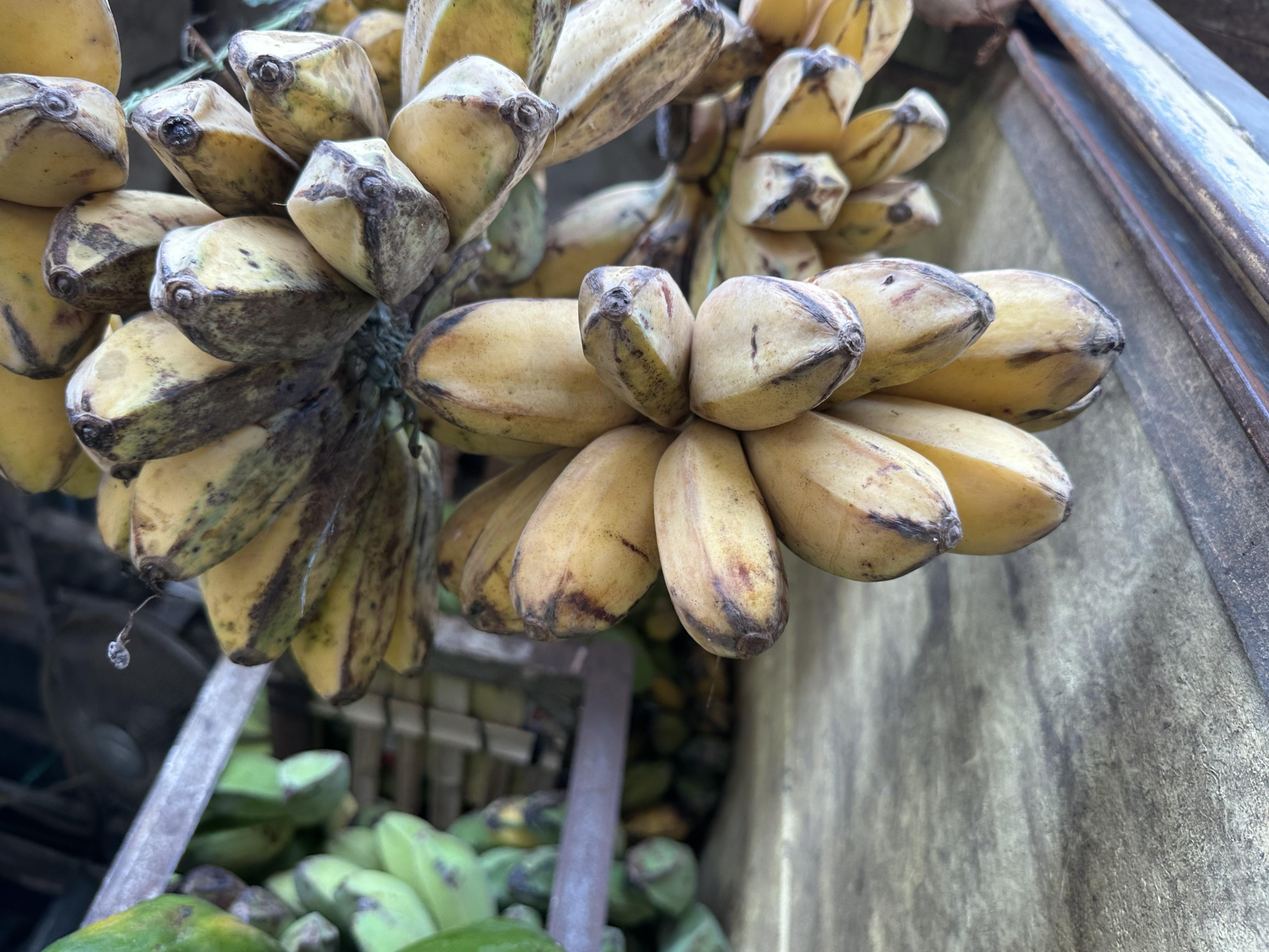ripe: (402, 259, 1124, 658), (532, 0, 950, 312), (0, 0, 131, 497)
underripe: (42, 31, 556, 703)
